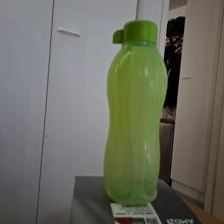bottle: (98, 18, 169, 206)
